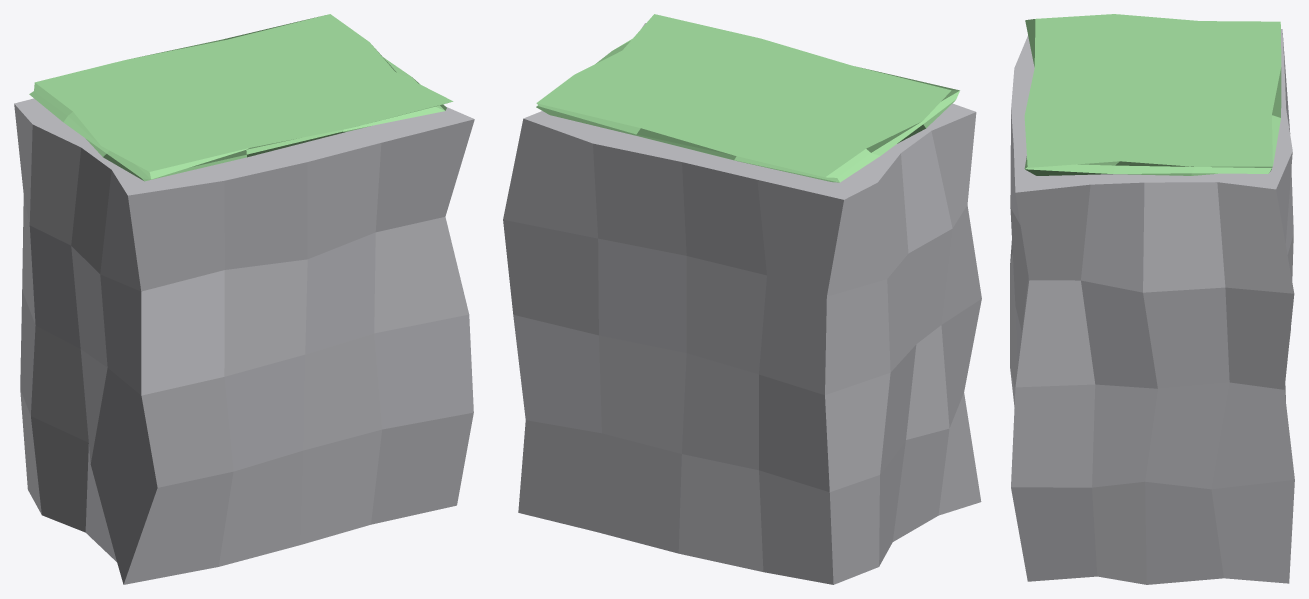
Rendered from ASTX_GEO_FALLROCK.glb.
3 views of the same model, side by side, from view 1: azimuth 30°, elevation 25°; view 2: azimuth 150°, elevation 25°; view 3: azimuth 270°, elevation 25° (orthographic).
Visible parts, largest first — view 1: ASTX_GEO_fallRock, ASTX_GEO_fallRock_cap; view 2: ASTX_GEO_fallRock, ASTX_GEO_fallRock_cap; view 3: ASTX_GEO_fallRock, ASTX_GEO_fallRock_cap.
Boxes of the visible parts, x1,y1,x2,y2 form: ASTX_GEO_fallRock: (14, 98, 474, 584); ASTX_GEO_fallRock_cap: (29, 14, 453, 181); ASTX_GEO_fallRock: (503, 23, 981, 584); ASTX_GEO_fallRock_cap: (536, 14, 959, 182); ASTX_GEO_fallRock: (1010, 29, 1294, 584); ASTX_GEO_fallRock_cap: (1024, 14, 1281, 175).
Size of the model in its own units: 10.86 by 12.07 by 7.56.
